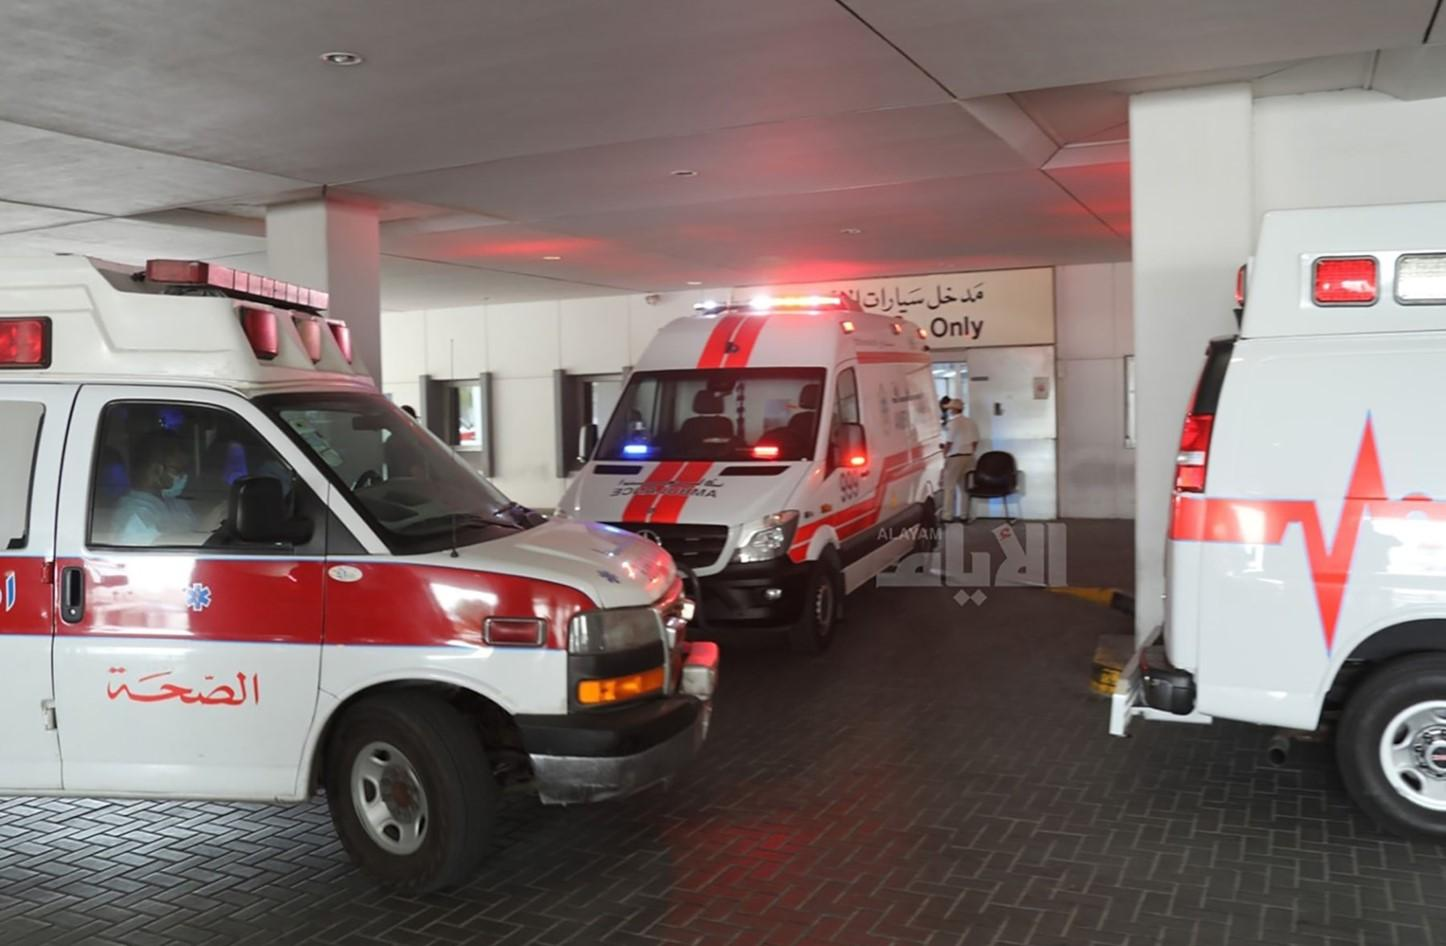ambulance_off: (0, 248, 720, 897)
ambulance_on: (546, 278, 938, 658)
